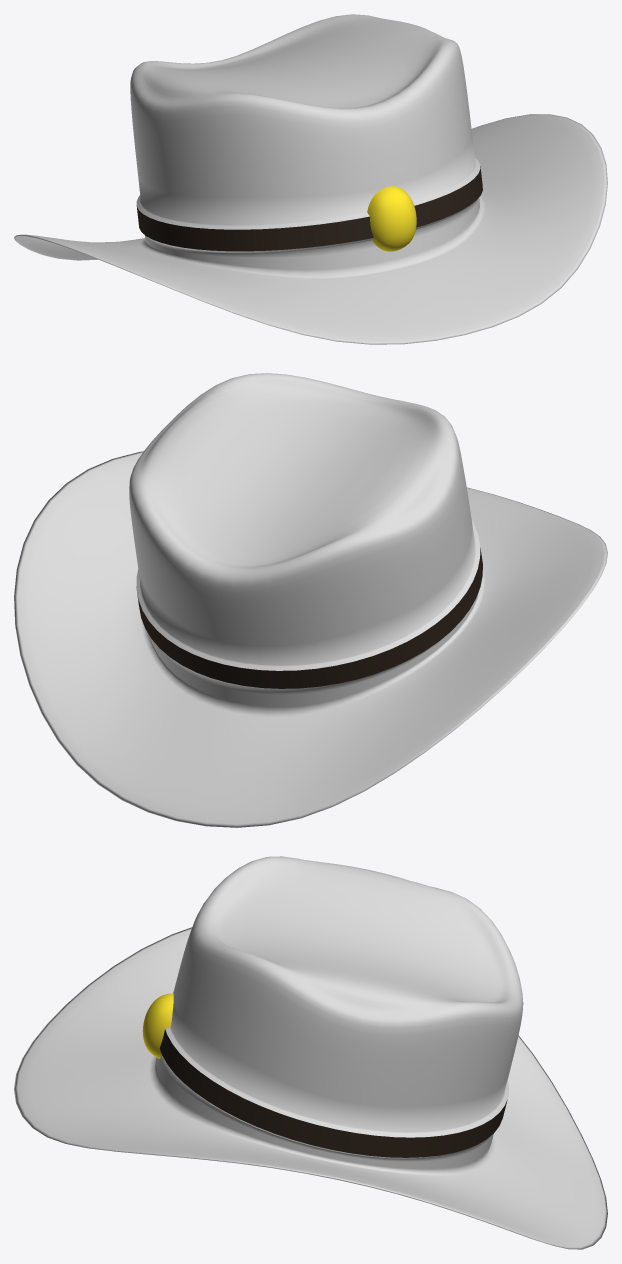
File: COWBOY.fbx
3 views of the same model, one above another, from view 1: azimuth 30°, elevation 25°; view 2: azimuth 150°, elevation 25°; view 3: azimuth 270°, elevation 25° (orthographic). The views are drawn at different scales.
Parts seen in each view (by area): view 1: COWBOY HAT.002; view 2: COWBOY HAT.002; view 3: COWBOY HAT.002.
Part boxes in pixels (x1,y1,x2,y2): COWBOY HAT.002: (14, 14, 607, 344); COWBOY HAT.002: (14, 373, 607, 827); COWBOY HAT.002: (14, 856, 607, 1249).
Size of the model in its own units: 1277 by 701 by 1236.
